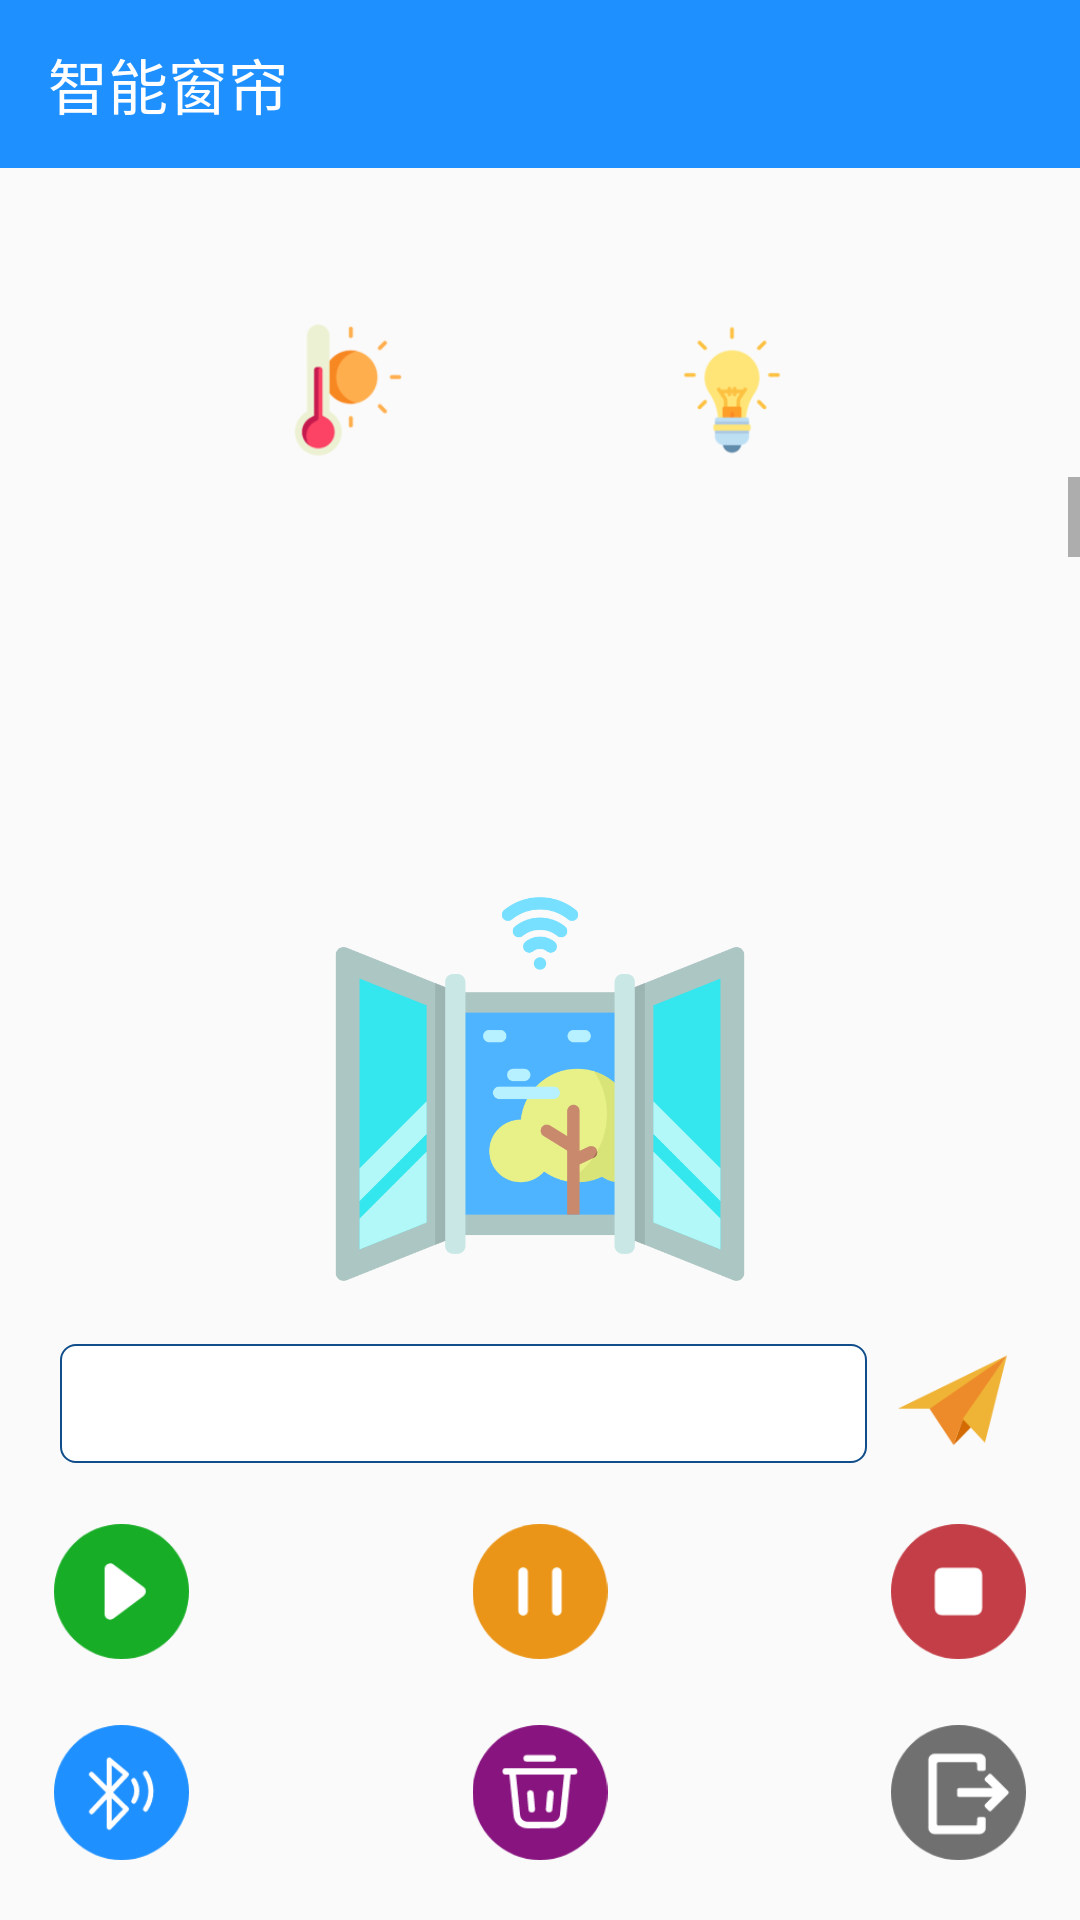

Screen size 1080 x 1920. Icon name, then its box in pixels as (x1, y1, x2, y2):
clean: (473, 1725, 608, 1860)
close: (891, 1524, 1026, 1659)
exit: (891, 1725, 1026, 1860)
open: (54, 1524, 189, 1659)
pause: (473, 1524, 608, 1659)
send: (898, 1355, 1007, 1445)
